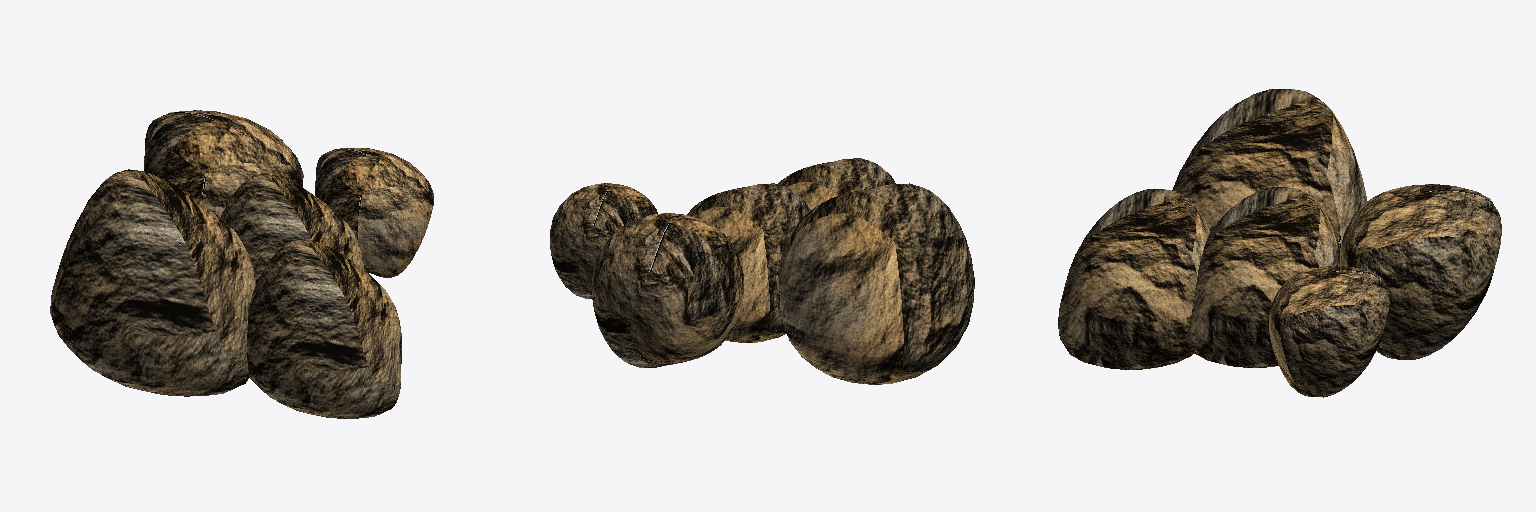
3 renders of one model, left to right at view 1: azimuth 30°, elevation 25°; view 2: azimuth 150°, elevation 25°; view 3: azimuth 270°, elevation 25°, orthographic.
Visible parts, largest first — view 1: Cube.001_Cube.006, Cube.005_Cube.009, Cube.002_Cube.007, Cube.003, Cube.000_Cube.005; view 2: Cube.001_Cube.006, Cube.003, Cube.000_Cube.005, Cube.002_Cube.007, Cube.005_Cube.009; view 3: Cube.005_Cube.009, Cube.003, Cube.001_Cube.006, Cube.000_Cube.005, Cube.002_Cube.007.
Boxes of the visible parts, box(x1,y1,x2,y2) form: Cube.001_Cube.006: box(50, 169, 256, 396); Cube.005_Cube.009: box(247, 239, 401, 418); Cube.002_Cube.007: box(315, 148, 433, 277); Cube.003: box(144, 110, 303, 216); Cube.000_Cube.005: box(221, 174, 364, 283); Cube.001_Cube.006: box(776, 183, 974, 384); Cube.003: box(592, 213, 743, 367); Cube.000_Cube.005: box(687, 183, 810, 342); Cube.002_Cube.007: box(550, 183, 657, 298); Cube.005_Cube.009: box(778, 158, 895, 209); Cube.005_Cube.009: box(1058, 189, 1209, 369); Cube.003: box(1340, 184, 1501, 359); Cube.001_Cube.006: box(1172, 89, 1366, 247); Cube.000_Cube.005: box(1186, 187, 1340, 367); Cube.002_Cube.007: box(1269, 266, 1389, 397).
Size of the model in its own units: 1.59 by 0.8396 by 1.63.
1 materials, 1 textured.